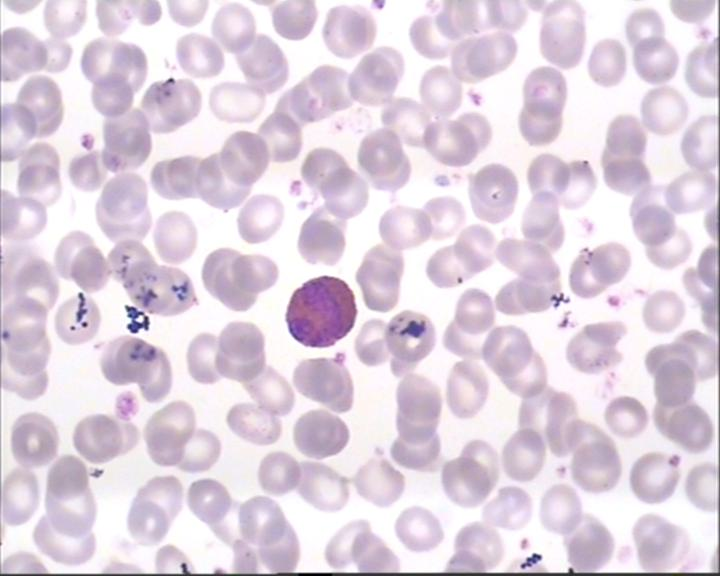eosi: (283, 270, 360, 351)
